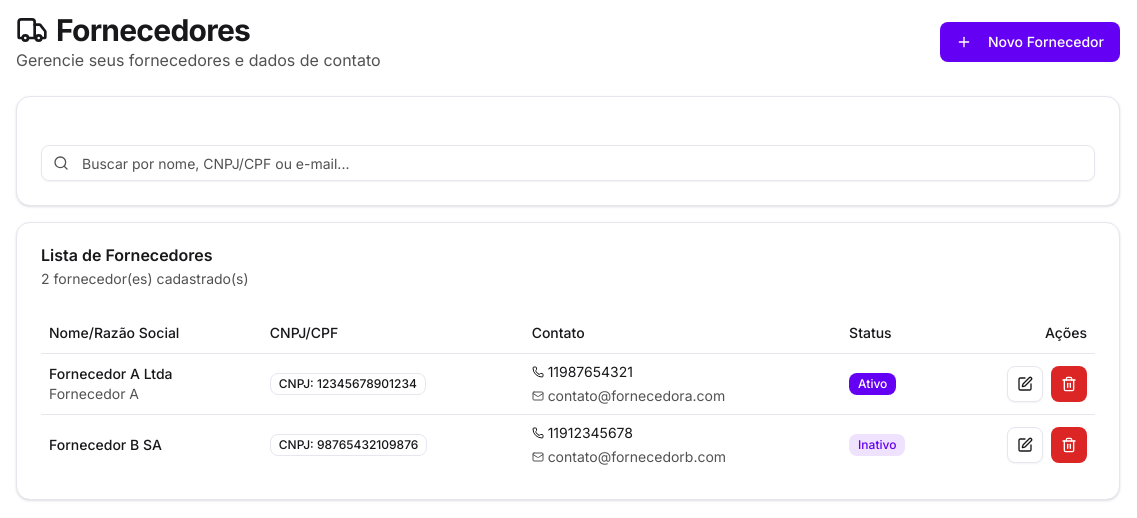
Test: SuppliersPage › filters suppliers by search query
The image size is (1137, 518).
Type "Fornecedor A" into the field with placeholder "Buscar por nome, CNPJ/CPF ou e-mail..." at (568, 163), box top-left (41, 145), bottom-right (1095, 181)
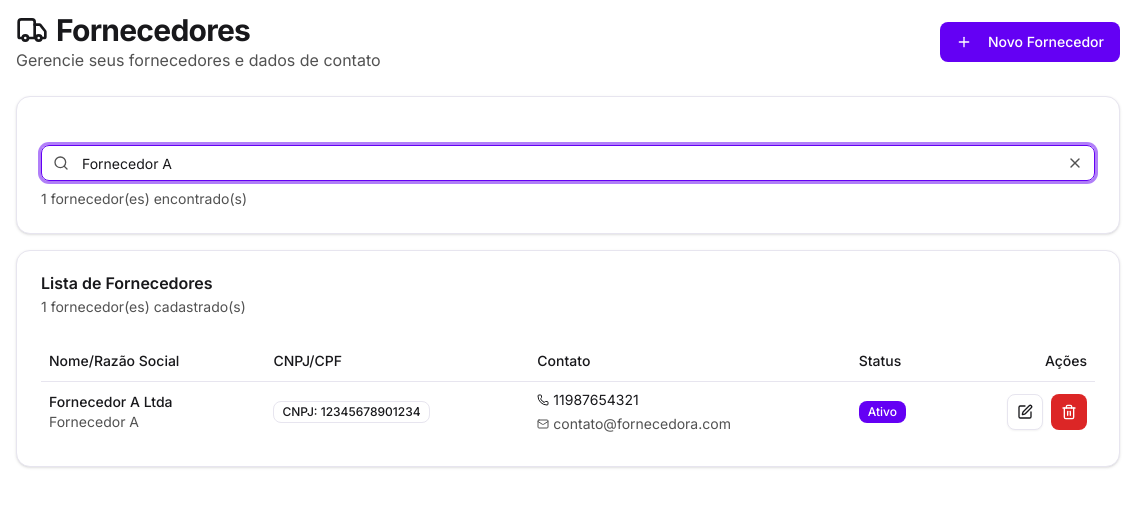
Expected: the text "Fornecedor A Ltda" is shown, top-left (49, 392), bottom-right (172, 410)
Now the text "Fornecedor B SA" is gone
